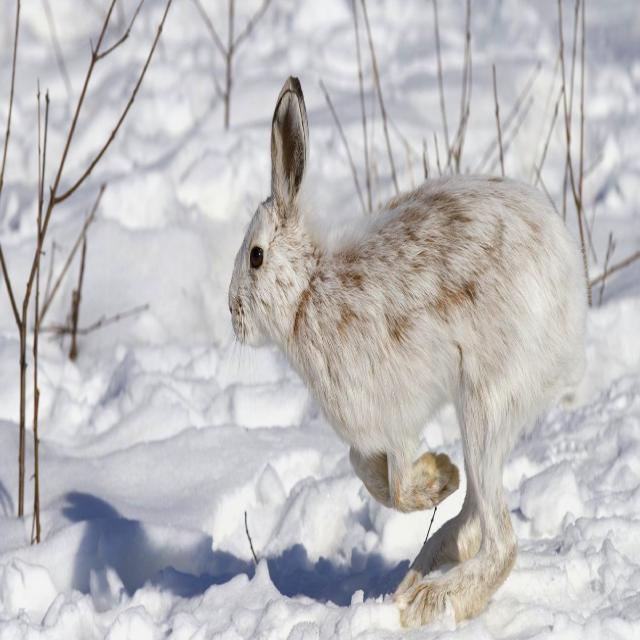hare: (228, 77, 587, 627)
